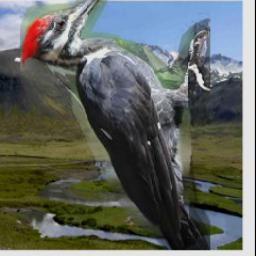Woodpecker: (21, 0, 211, 251)
